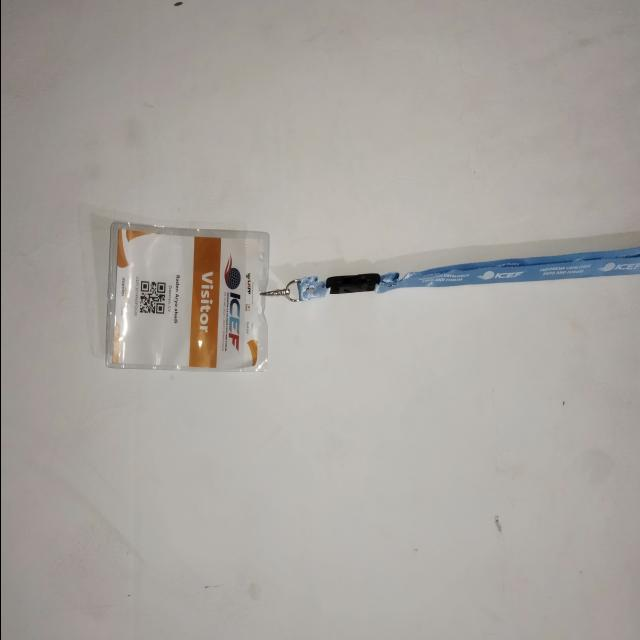ID_card: (104, 220, 270, 372)
